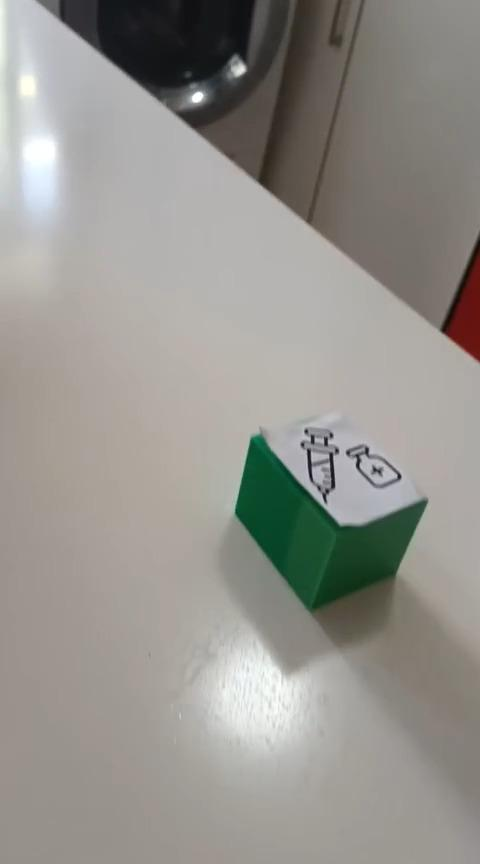antiseptic cream: (233, 408, 429, 612)
